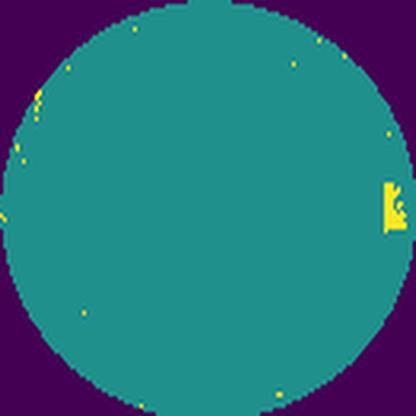Loc: (382, 180, 410, 233)
